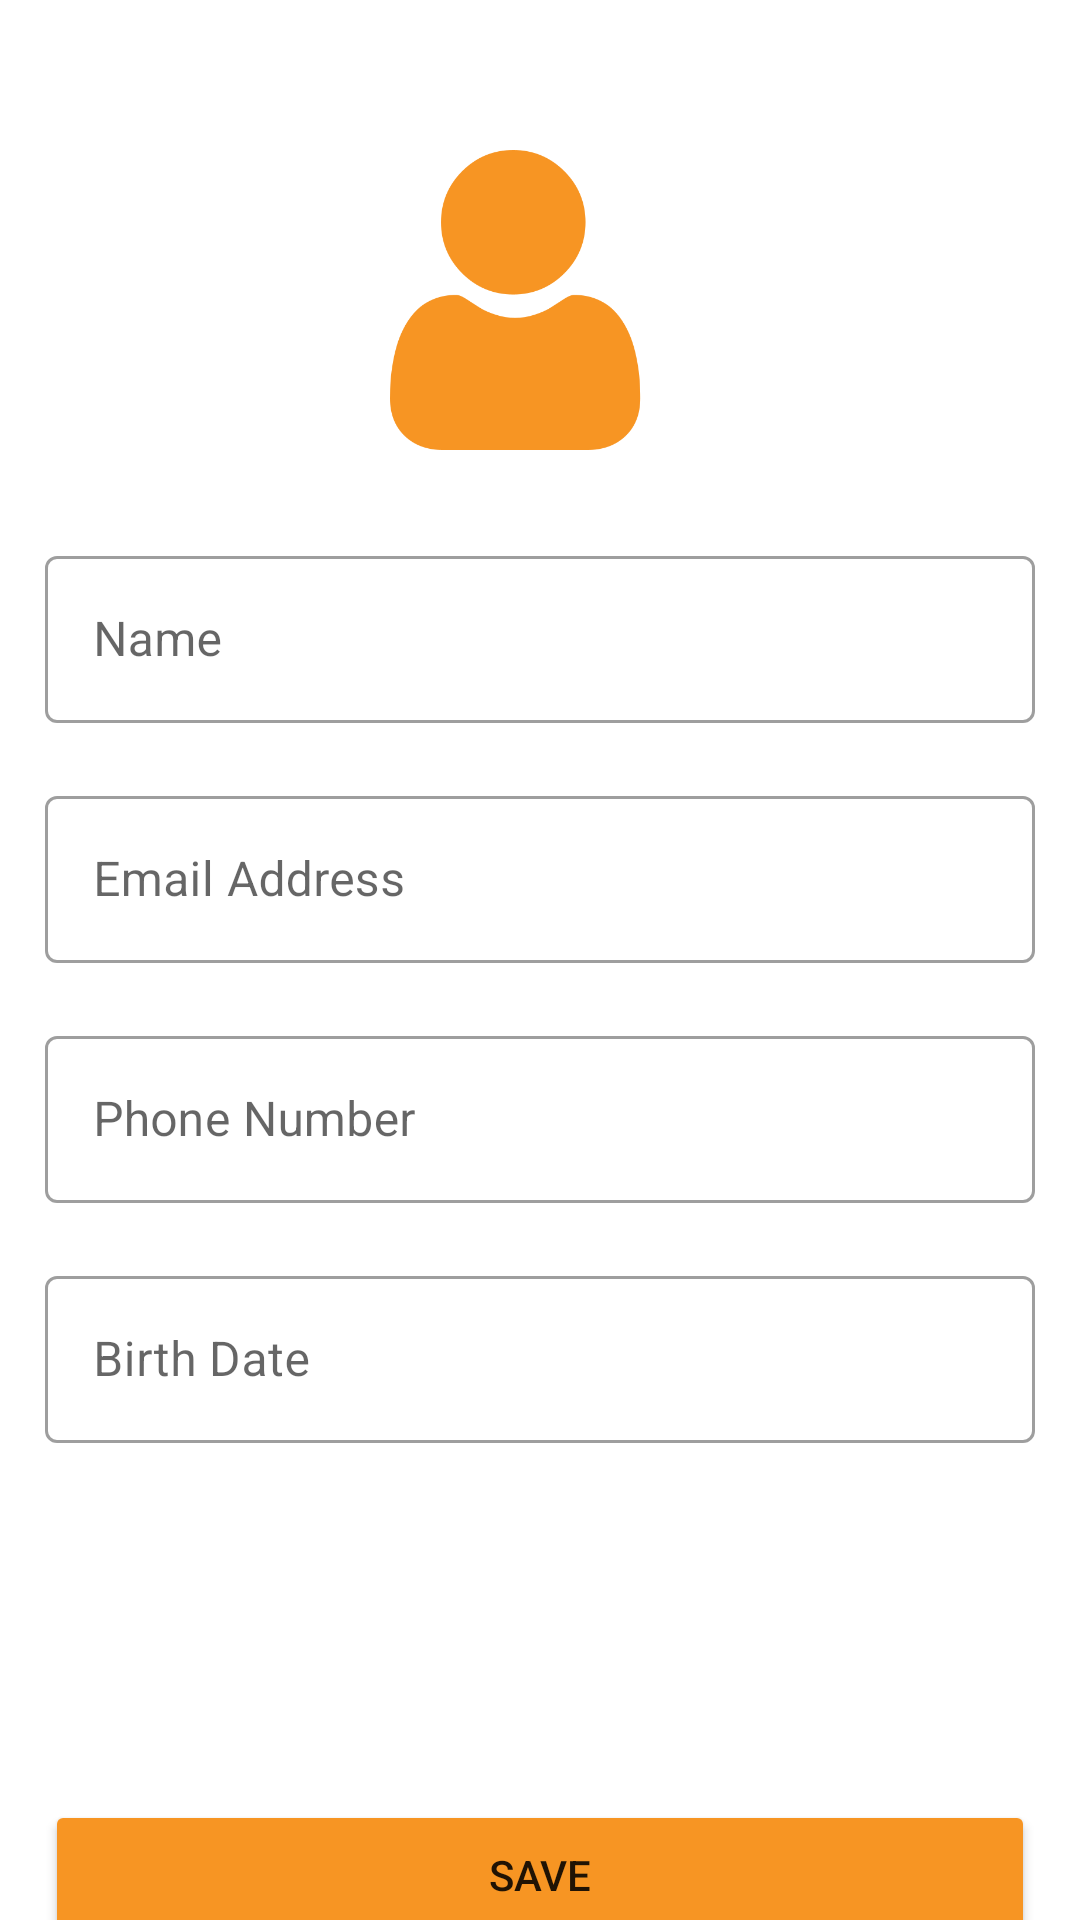

Screen size 1080 x 1920. Icon name, then its center in pixels as (x,y):
profile: (515,300)
